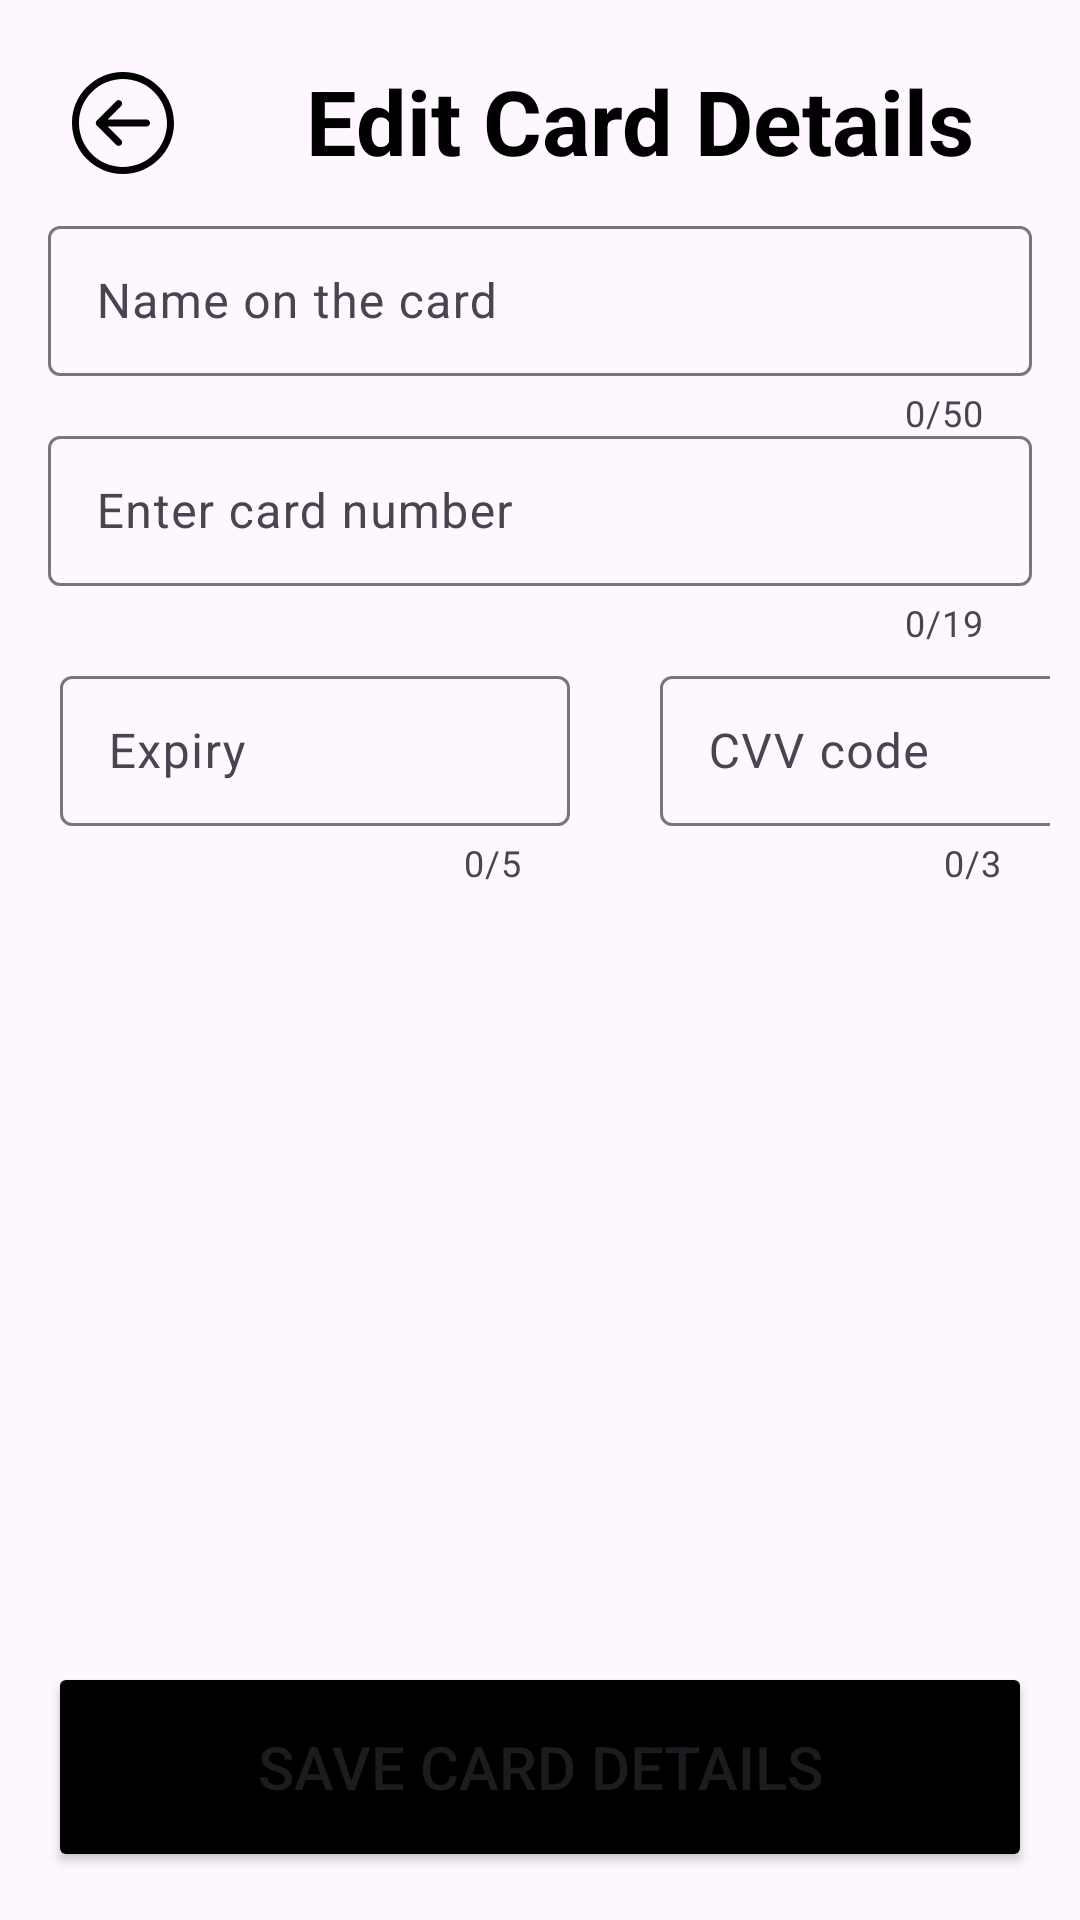

Named icons in this screenshot (1080w x 1920h) and their centers, (x=x, y=y):
Back Button: (x=123, y=123)
